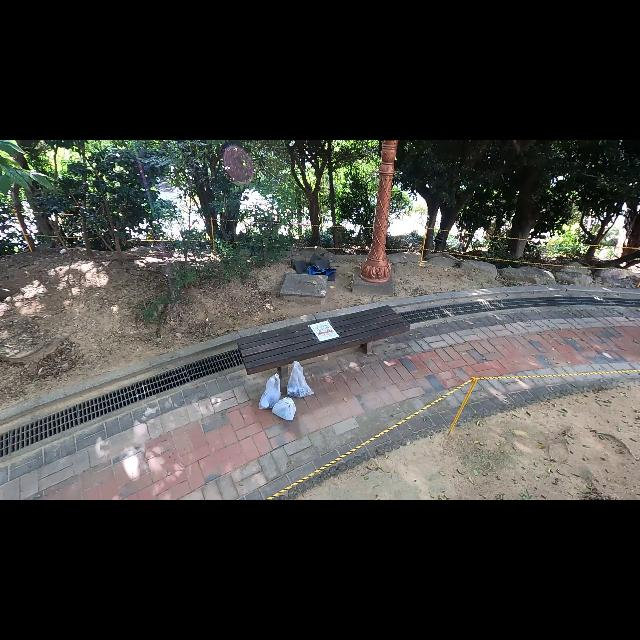trash: (286, 249, 338, 281), (286, 360, 318, 400), (258, 372, 284, 412), (270, 396, 298, 422)
